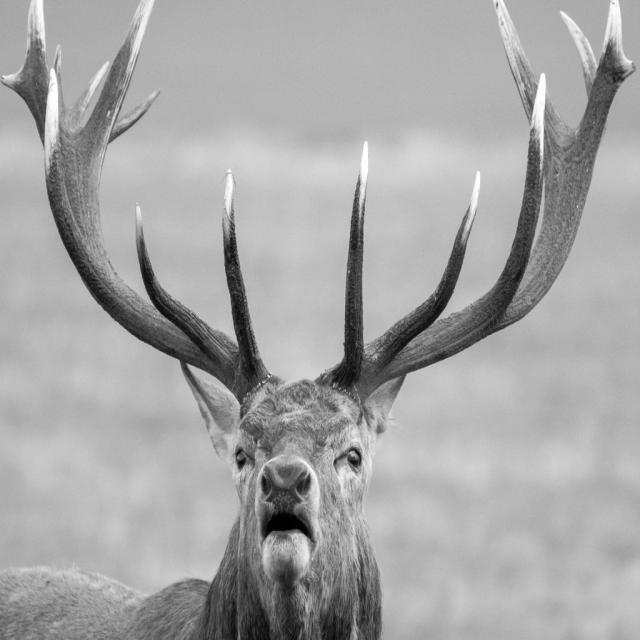deer: (20, 0, 640, 617)
